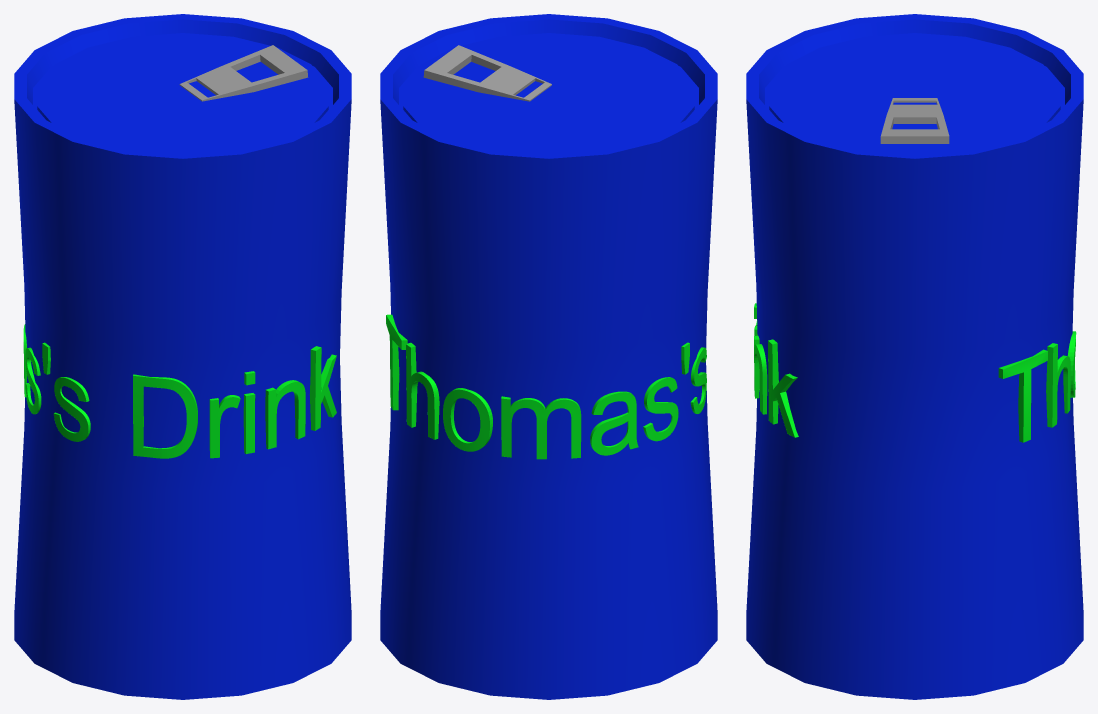
The model's file is soda.fbx.
The picture shows the model from 3 angles, left to right: view 1: azimuth 30°, elevation 25°; view 2: azimuth 150°, elevation 25°; view 3: azimuth 270°, elevation 25°; orthographic projection.
Visible parts, largest first — view 1: Cylinder046, TextPlus003, Box005; view 2: Cylinder046, TextPlus003, Box005; view 3: Cylinder046, TextPlus003, Box005.
Boxes of the visible parts, left/top/right/bottom form: Cylinder046: left=14, top=14, right=351, bottom=699; TextPlus003: left=23, top=324, right=336, bottom=458; Box005: left=179, top=45, right=308, bottom=101; Cylinder046: left=380, top=14, right=717, bottom=699; TextPlus003: left=386, top=314, right=706, bottom=459; Box005: left=423, top=45, right=551, bottom=101; Cylinder046: left=746, top=14, right=1083, bottom=699; TextPlus003: left=754, top=303, right=1076, bottom=442; Box005: left=880, top=98, right=949, bottom=143.
Size of the model in its own units: 24.32 by 42.56 by 23.95.
